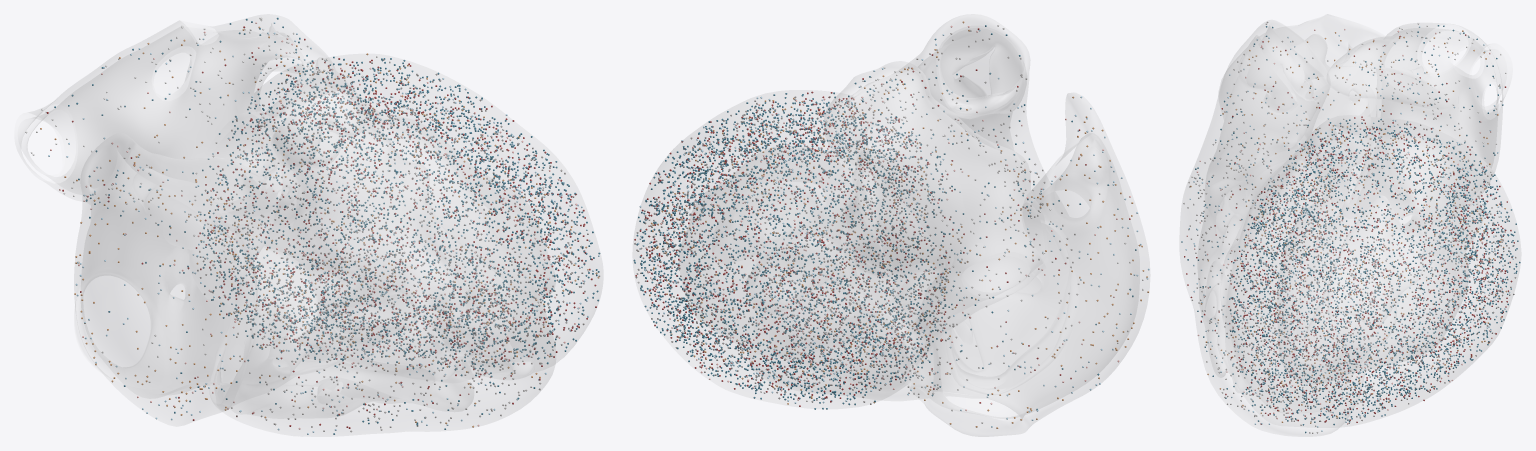
Rendered from 3d-vh-f-heart-UBERON_0000948-all-as-celltypist-sphere-hra-pop.glb.
3 renders of one model, left to right at view 1: azimuth 30°, elevation 25°; view 2: azimuth 150°, elevation 25°; view 3: azimuth 270°, elevation 25°, orthographic. The views are drawn at different scales.
Visible parts, largest first — view 1: VH_F_right_ventricle, VH_F_right_cardiac_atrium, VH_F_left_cardiac_atrium, VH_F_left_ventricle, VH_F_tricuspid_valve, VH_F_aortic_valve, VH_F_pulmonary_valve, VH_F_papillary_muscle_of_heart_ant; view 2: VH_F_left_ventricle, VH_F_right_cardiac_atrium, VH_F_left_cardiac_atrium, VH_F_right_ventricle, VH_F_tricuspid_valve, VH_F_pulmonary_valve, VH_F_mitral_valve, VH_F_papillary_muscle_of_heart_antlat, VH_F_papillary_muscle_of_heart_posmed, VH_F_interventricular_septum; view 3: VH_F_left_ventricle, VH_F_right_ventricle, VH_F_left_cardiac_atrium, VH_F_papillary_muscle_of_heart_antlat, VH_F_right_cardiac_atrium, VH_F_aortic_valve, VH_F_mitral_valve, VH_F_pulmonary_valve, VH_F_interventricular_septum, VH_F_papillary_muscle_of_heart_posmed.
Boxes of the visible parts, <box> form: VH_F_right_ventricle: <box>210,58,555,436</box>; VH_F_right_cardiac_atrium: <box>74,133,277,426</box>; VH_F_left_cardiac_atrium: <box>18,14,335,237</box>; VH_F_left_ventricle: <box>254,54,602,371</box>; VH_F_tricuspid_valve: <box>215,246,336,405</box>; VH_F_aortic_valve: <box>204,112,297,225</box>; VH_F_pulmonary_valve: <box>271,92,363,170</box>; VH_F_papillary_muscle_of_heart_ant: <box>369,318,456,372</box>; VH_F_left_ventricle: <box>633,90,911,408</box>; VH_F_right_cardiac_atrium: <box>891,93,1149,436</box>; VH_F_left_cardiac_atrium: <box>824,61,1045,341</box>; VH_F_right_ventricle: <box>749,14,1067,400</box>; VH_F_tricuspid_valve: <box>951,232,1068,375</box>; VH_F_pulmonary_valve: <box>939,28,1026,118</box>; VH_F_mitral_valve: <box>826,196,944,308</box>; VH_F_papillary_muscle_of_heart_antlat: <box>712,182,825,263</box>; VH_F_papillary_muscle_of_heart_posmed: <box>746,238,836,314</box>; VH_F_interventricular_septum: <box>756,187,904,391</box>; VH_F_left_ventricle: <box>1225,115,1520,427</box>; VH_F_right_ventricle: <box>1180,20,1364,436</box>; VH_F_left_cardiac_atrium: <box>1327,23,1506,217</box>; VH_F_papillary_muscle_of_heart_antlat: <box>1328,196,1422,327</box>; VH_F_right_cardiac_atrium: <box>1219,14,1482,251</box>; VH_F_aortic_valve: <box>1300,82,1376,166</box>; VH_F_mitral_valve: <box>1356,153,1437,236</box>; VH_F_pulmonary_valve: <box>1238,37,1297,114</box>; VH_F_interventricular_septum: <box>1221,140,1354,412</box>; VH_F_papillary_muscle_of_heart_posmed: <box>1305,290,1396,362</box>.
Size of the model in its own units: 0.1427 by 0.11 by 0.1015.
